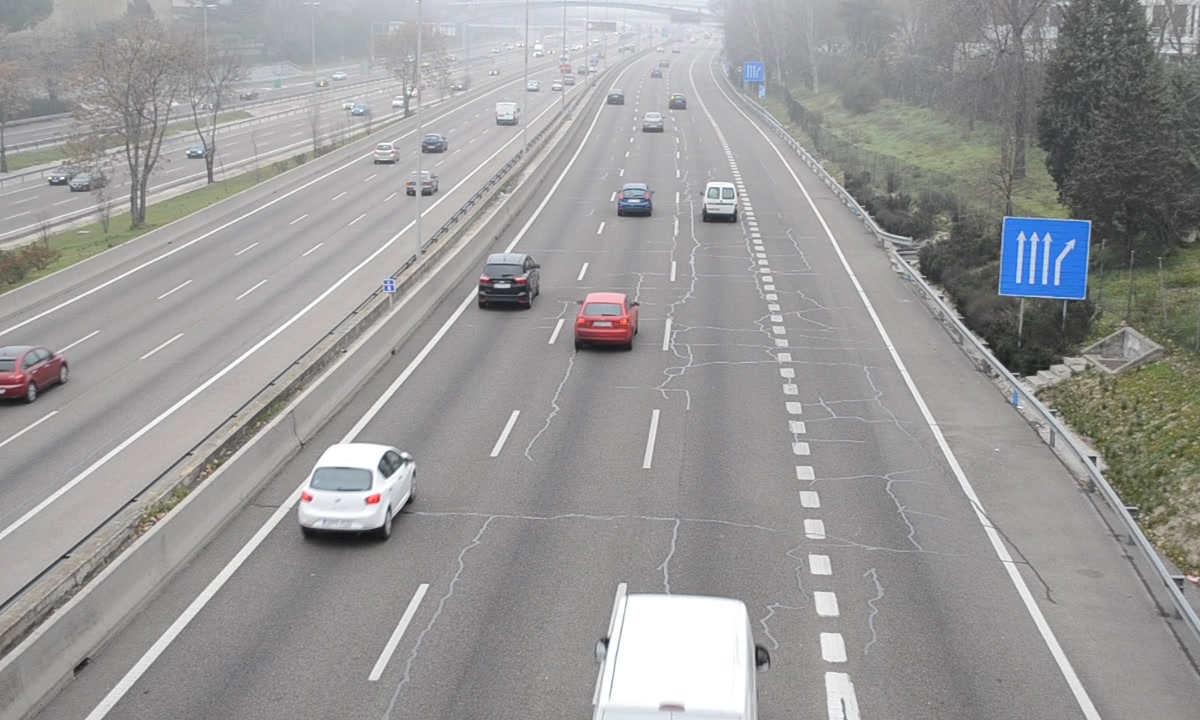car: (297, 444, 418, 531), (576, 292, 636, 345), (479, 254, 539, 306), (617, 183, 653, 217), (642, 111, 665, 133)
van: (590, 593, 759, 720), (702, 181, 740, 221)
